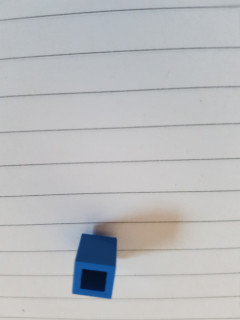1x1 blue: (68, 230, 120, 303)
